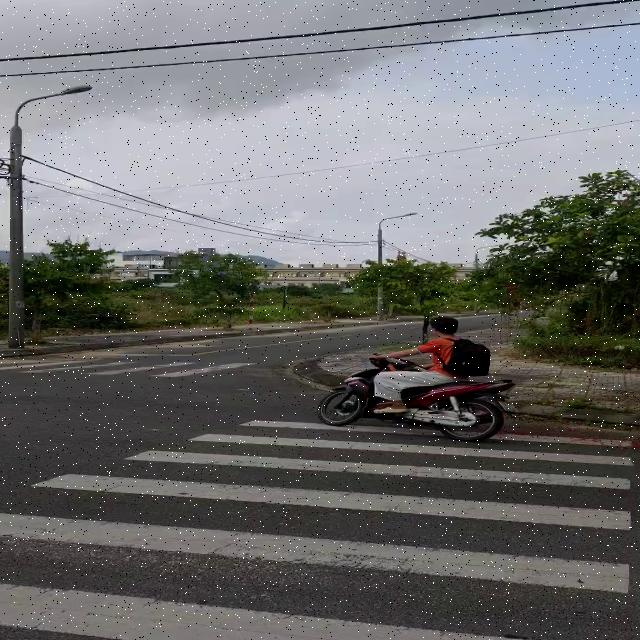no_helmet: (426, 312, 467, 338)
